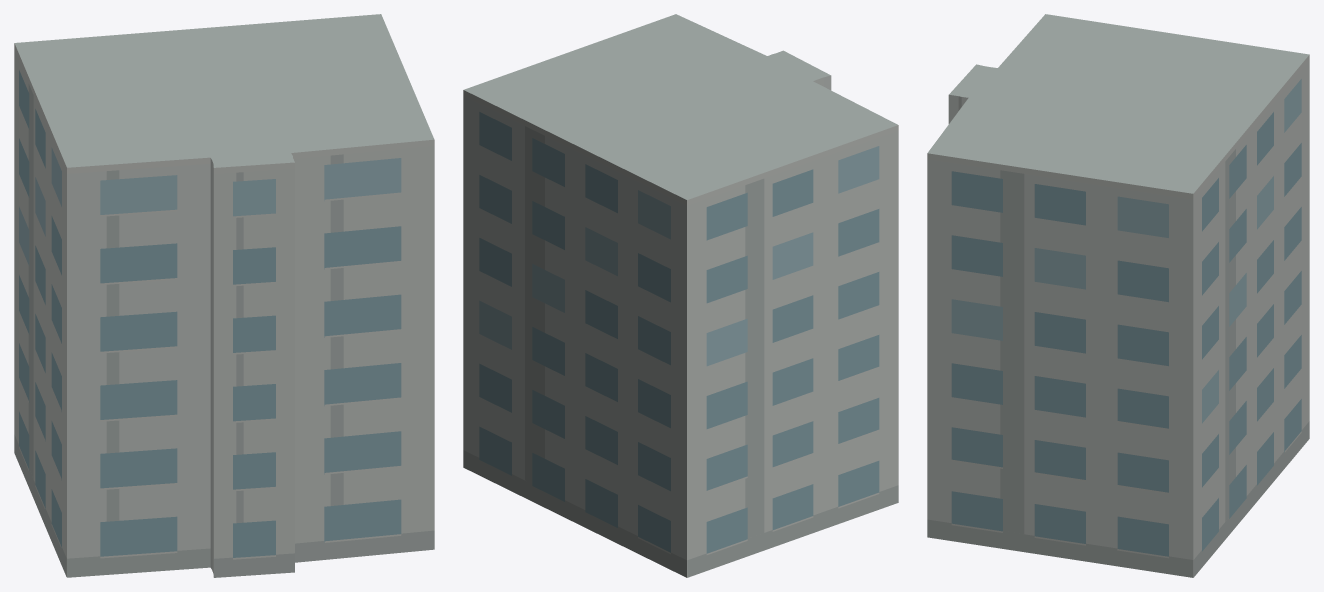
The model's file is survey-upis-32851873.glb.
The picture shows the model from 3 angles, left to right: view 1: azimuth 30°, elevation 25°; view 2: azimuth 150°, elevation 25°; view 3: azimuth 270°, elevation 25°; orthographic projection. The views are drawn at different scales.
Parts seen in each view (by area): view 1: survey-upis-32851873.tmp; view 2: survey-upis-32851873.tmp; view 3: survey-upis-32851873.tmp.
Part boxes in pixels (x1,y1,x2,y2): survey-upis-32851873.tmp: (14,14,434,577); survey-upis-32851873.tmp: (463,14,898,577); survey-upis-32851873.tmp: (927,14,1309,577).
Bounding box in the file's own units: 16.12 × 16.05 × 14.49.
